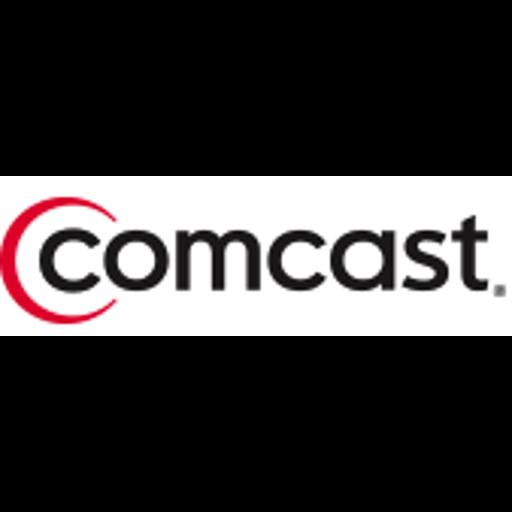Comcast Corporation: (0, 176, 512, 336)
